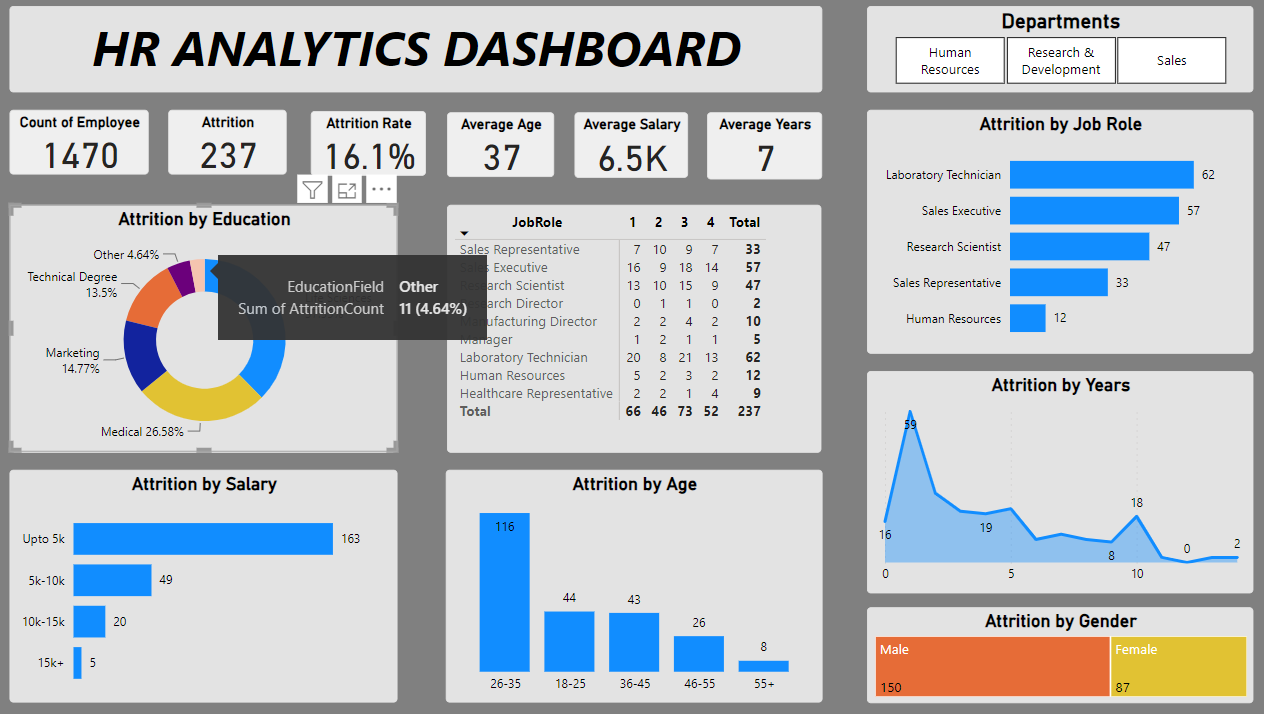

What the dashboard file says about the page in this screenshot:
{"tool":"powerbi","page":{"name":"Page 1","canvas":[1280,720],"ordinal":0},"visuals":[{"type":"card","title":"Count of Employee","fields":{"Values":["CountNonNull(HR_Analytics.EmpID)"]},"box":[17,113.8,139.4,64.9],"z":0},{"type":"card","title":"Attrition","fields":{"Values":["Sum(HR_Analytics.AttritionCount)"]},"box":[176.6,113.8,118.1,64.9],"z":1000},{"type":"card","title":"Attrition Rate","fields":{"Values":["HR_Analytics.AttritionRate"]},"box":[319.1,114.9,114.9,64.9],"z":2000},{"type":"card","title":"Average Age ","fields":{"Values":["Avg(HR_Analytics.Age)"]},"box":[455.3,116,107.4,64.9],"z":3000},{"type":"card","title":"Average Salary","fields":{"Values":["Avg(HR_Analytics.MonthlyIncome)"]},"box":[583,116,113.8,66],"z":4000},{"type":"card","title":"Average Years ","fields":{"Values":["Avg(HR_Analytics.YearsAtCompany)"]},"box":[714.9,116,114.9,67],"z":5000},{"type":"donutChart","title":"Attrition by Education","fields":{"Category":["HR_Analytics.EducationField"],"Y":["Sum(HR_Analytics.AttritionCount)"]},"box":[17,208.5,388.3,247.9],"z":6000},{"type":"columnChart","title":"Attrition by Age","fields":{"Category":["HR_Analytics.AgeGroup"],"Y":["Sum(HR_Analytics.AttritionCount)"]},"box":[453.2,473.4,376.6,233],"z":7000},{"type":"pivotTable","fields":{"Rows":["HR_Analytics.JobRole"],"Columns":["HR_Analytics.JobSatisfaction"],"Values":["Sum(HR_Analytics.AttritionCount)"]},"box":[455.3,208.5,374.5,247.9],"z":8000},{"type":"barChart","title":"Attrition by Salary","fields":{"Category":["HR_Analytics.SalarySlab"],"Y":["Sum(HR_Analytics.AttritionCount)"]},"box":[17,473.4,388.3,233],"z":9000},{"type":"barChart","title":"Attrition by Job Role","fields":{"Category":["HR_Analytics.JobRole"],"Y":["Sum(HR_Analytics.AttritionCount)"]},"box":[875.5,113.8,386.2,243.6],"z":10000},{"type":"areaChart","title":"Attrition by Years","fields":{"Category":["HR_Analytics.YearsAtCompany"],"Y":["Sum(HR_Analytics.AttritionCount)"]},"box":[875,375,386.2,222.5],"z":11000},{"type":"treemap","title":"Attrition by Gender","fields":{"Group":["HR_Analytics.Gender"],"Values":["Sum(HR_Analytics.AttritionCount)"]},"box":[875.5,610.6,386.2,95.7],"z":12000},{"type":"slicer","title":"Departments","fields":{"Values":["HR_Analytics.Department"]},"box":[875.5,9.6,386.2,86.2],"z":13000},{"type":"textbox","box":[17,9.6,812.8,86.2],"z":14000}]}

Visuals, with their boxes in screenshot pixels (x1, y1, x2, y2), scaled from the page's 1280x720 canvas onto the 1264x714 screenshot:
"Count of Employee" card: 17 113 154 177
"Attrition" card: 174 113 291 177
"Attrition Rate" card: 315 114 429 178
"Average Age " card: 450 115 556 179
"Average Salary" card: 576 115 688 180
"Average Years " card: 706 115 819 181
"Attrition by Education" donutChart: 17 207 400 453
"Attrition by Age" columnChart: 448 469 819 701
pivotTable - HR_Analytics.JobRole x HR_Analytics.JobSatisfaction: 450 207 819 453
"Attrition by Salary" barChart: 17 469 400 701
"Attrition by Job Role" barChart: 865 113 1246 354
"Attrition by Years" areaChart: 864 372 1245 593
"Attrition by Gender" treemap: 865 606 1246 700
"Departments" slicer: 865 10 1246 95
textbox: 17 10 819 95
